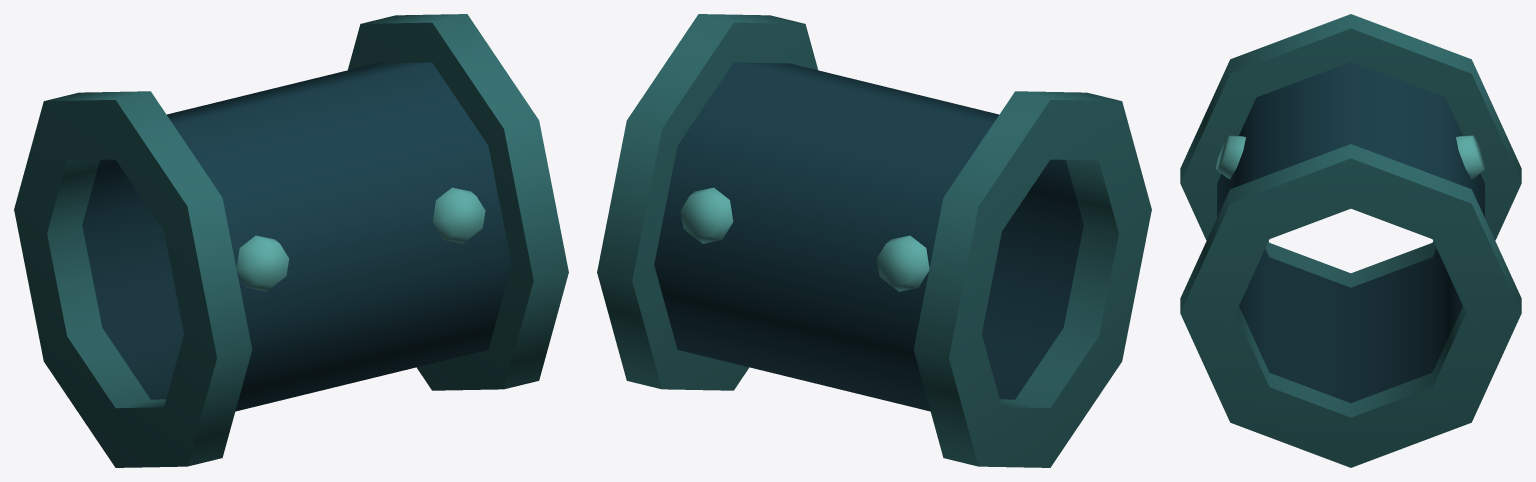
File: pipe-large.obj
3 renders of one model, left to right at view 1: azimuth 30°, elevation 25°; view 2: azimuth 150°, elevation 25°; view 3: azimuth 270°, elevation 25°, orthographic. The views are drawn at different scales.
Parts seen in each view (by area): view 1: pipe-large; view 2: pipe-large; view 3: pipe-large.
Part boxes in pixels (<box>): pipe-large: <box>14,14,568,467</box>; pipe-large: <box>597,14,1151,467</box>; pipe-large: <box>1180,14,1521,467</box>.
Bounding box in the file's own units: 1 × 1 × 1.
